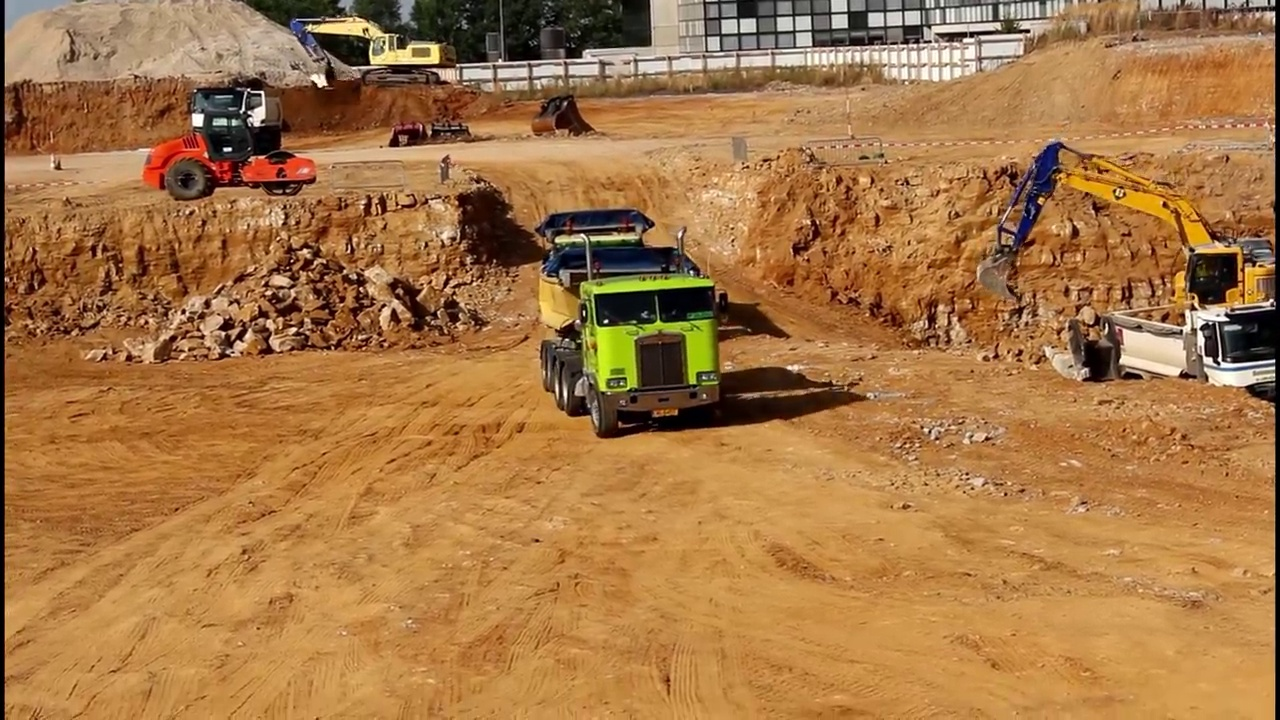compactor: (140, 109, 321, 206)
excavator: (974, 137, 1280, 352), (284, 10, 464, 90)
truck: (537, 223, 733, 443), (1088, 296, 1280, 436), (532, 199, 663, 334), (178, 68, 299, 168)
